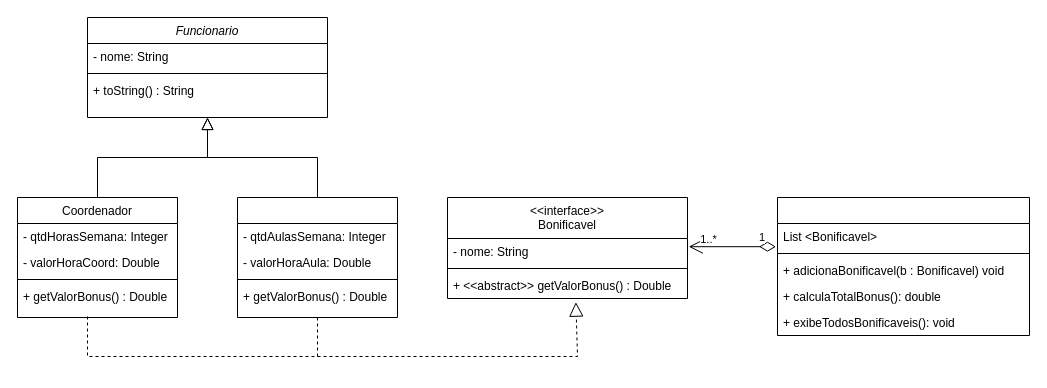
This 1047x388 diagram has some shape labels left out. Each missing label, with the box of its shape:
ControleBonus: (776, 196, 1030, 336)
Professor: (236, 196, 398, 318)
